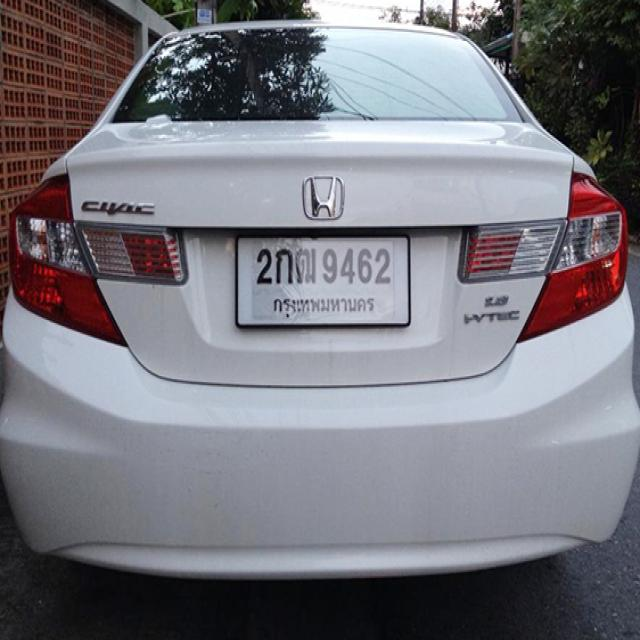license_plate: (229, 227, 416, 332)
